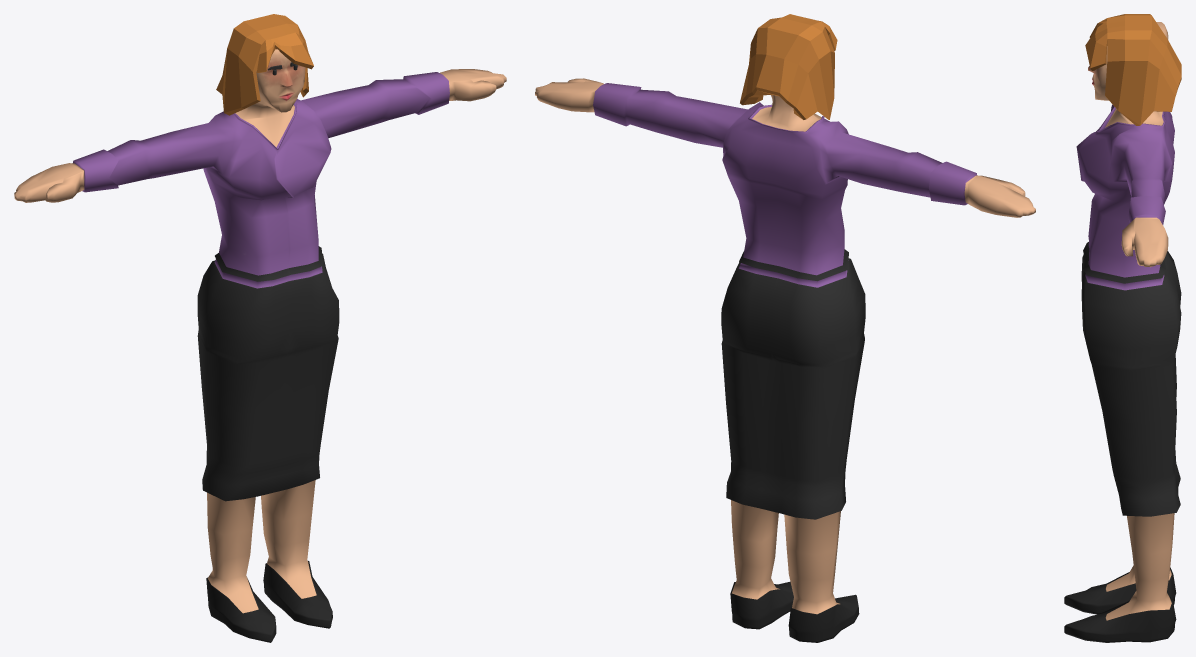
Rendered from Char_Nova.fbx.
3 views of the same model, side by side, from view 1: azimuth 30°, elevation 25°; view 2: azimuth 150°, elevation 25°; view 3: azimuth 270°, elevation 25° (orthographic).
Parts seen in each view (by area): view 1: pCube14, pCube15; view 2: pCube14, pCube15; view 3: pCube14, pCube15.
Part boxes in pixels (box(x1,y1,x2,y2)): pCube14: box(14, 49, 506, 642); pCube15: box(216, 14, 313, 115); pCube14: box(535, 78, 1035, 642); pCube15: box(740, 14, 837, 119); pCube14: box(1064, 22, 1181, 642); pCube15: box(1085, 14, 1181, 125).
Bounding box in the file's own units: 176 × 201 × 35.92.
Materials: 1 (1 with a texture image).
